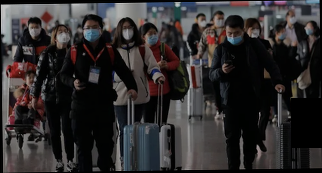with_mask: (82, 23, 101, 44), (55, 28, 71, 46), (226, 30, 243, 46), (146, 30, 160, 46), (121, 25, 134, 41), (249, 26, 261, 39), (28, 25, 41, 37), (215, 15, 226, 29), (304, 24, 313, 37), (277, 30, 287, 41), (288, 14, 297, 25), (198, 17, 207, 28)
without_mask: (25, 74, 36, 88)
